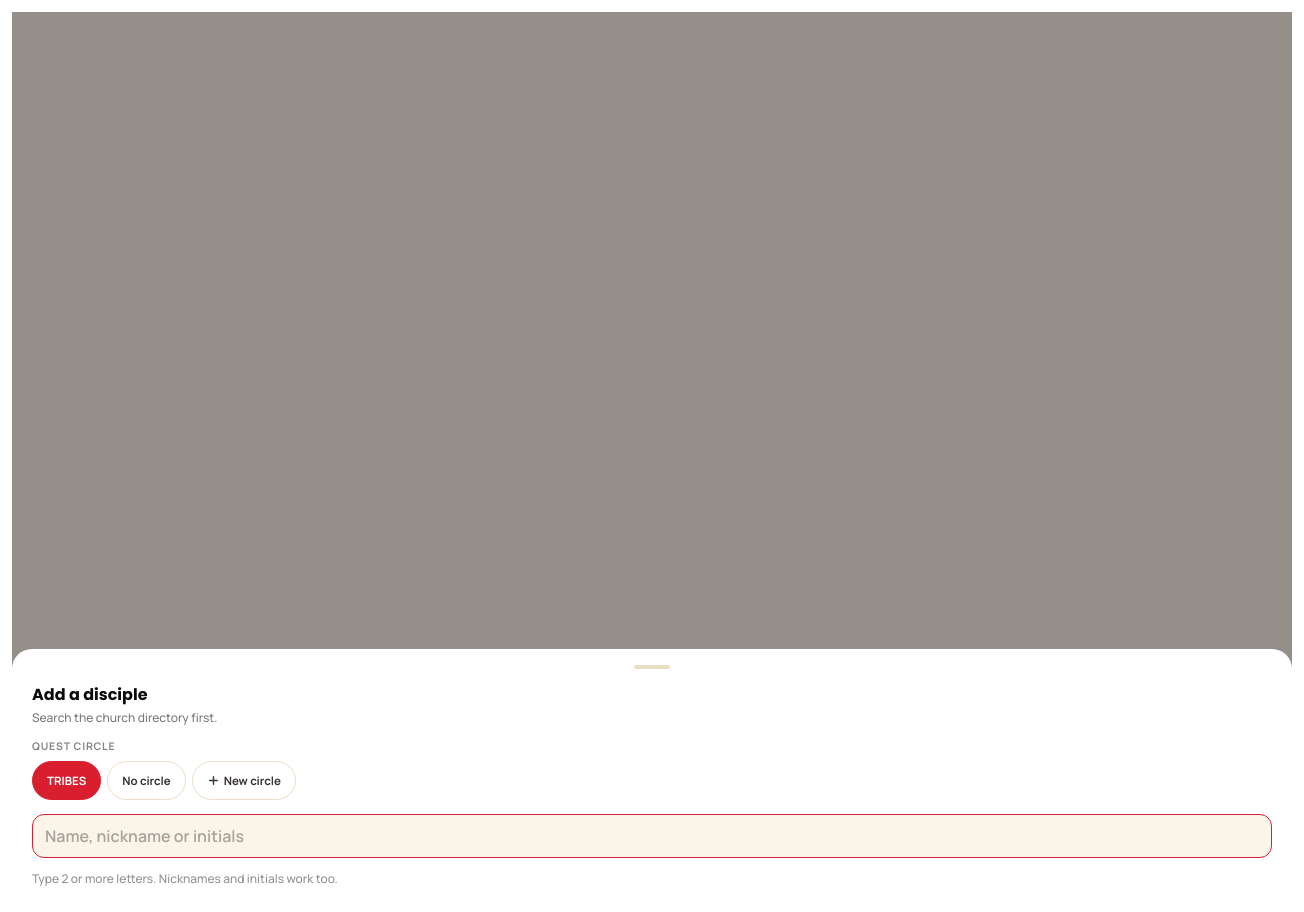
Test case: add sheet Quest Circle field (demo) › holds every Add while a circle name is typed but not started
This screenshot has width=1304, height=912.
Type "Juan Carlos Mendoza" into the field named "Search the church directory" at (652, 836), box [32,814,1272,858]
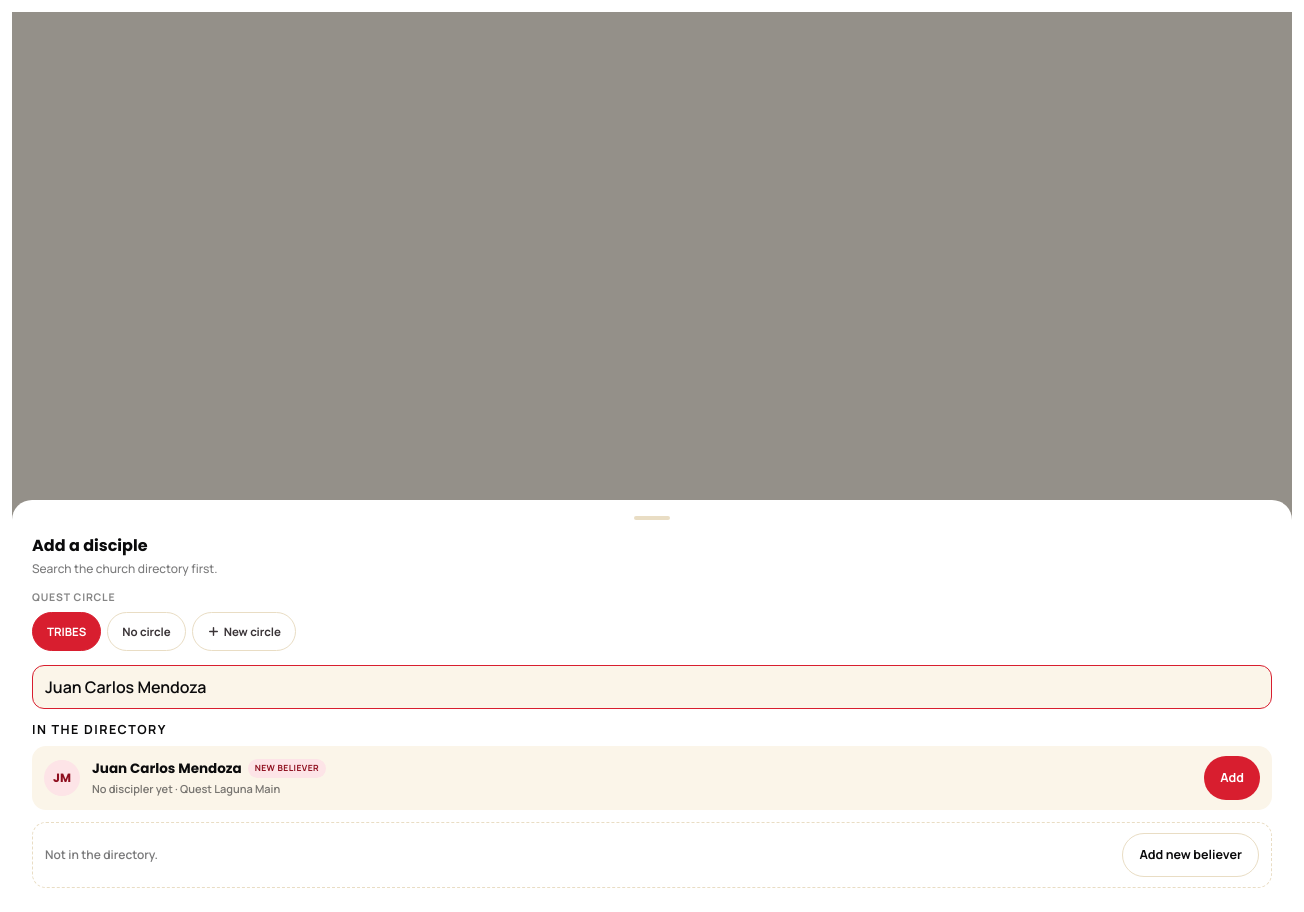
Click the button "New circle" at (244, 631), box [192,612,296,651]
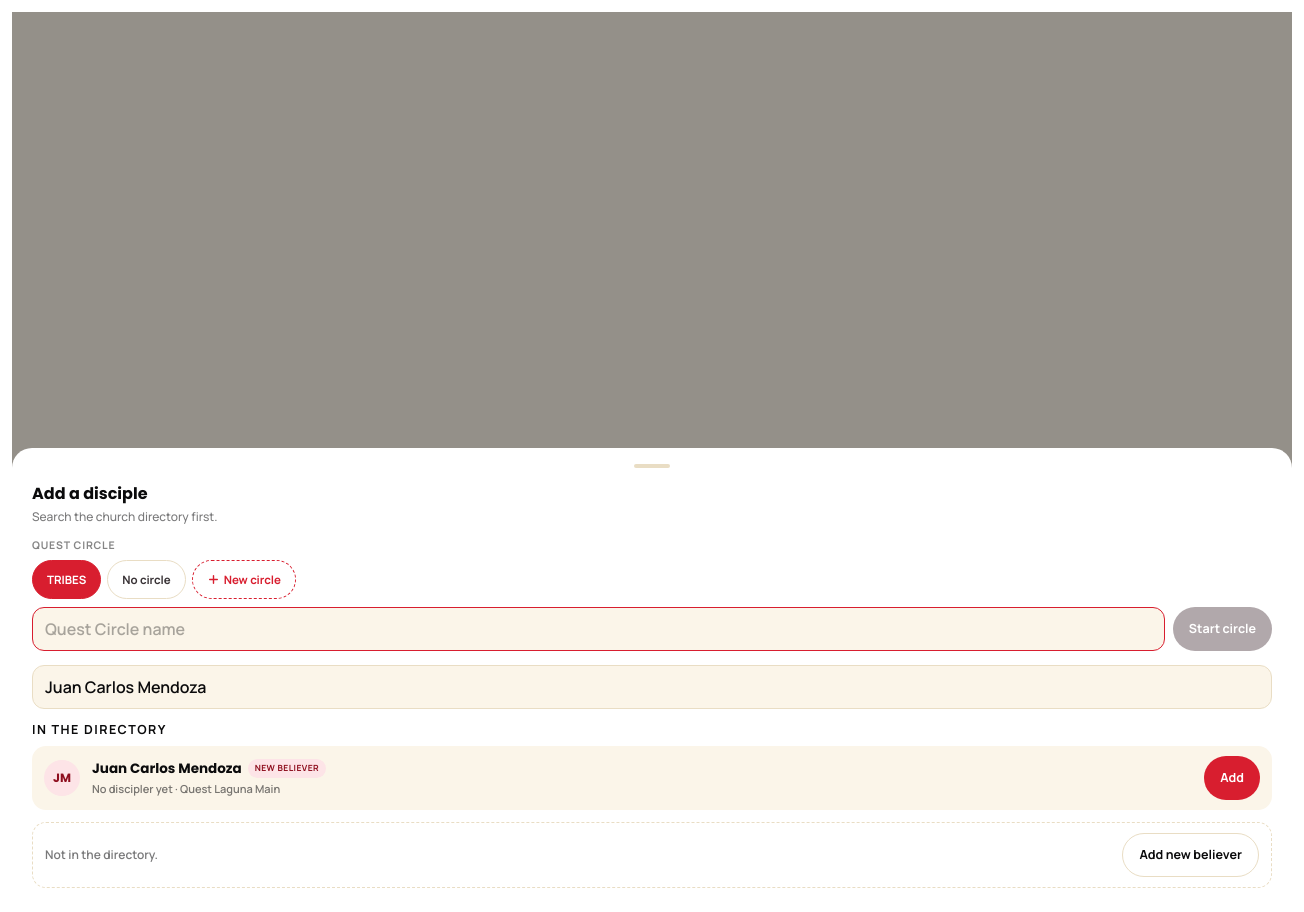
Type "Test Circle" into the field named "New Quest Circle name" at (598, 629), box [32,607,1165,651]
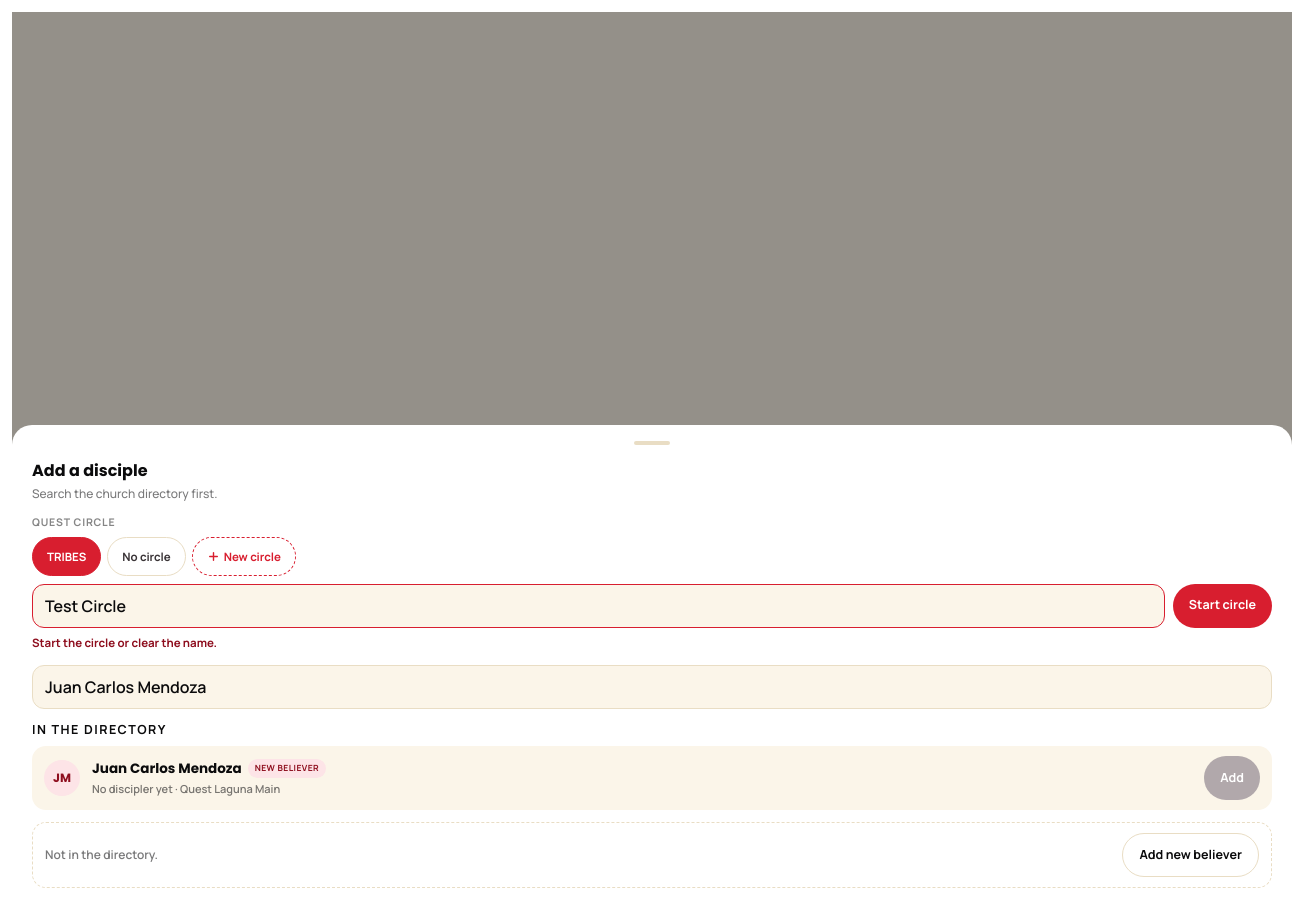
Result: the button "Add" is disabled at [1204,756,1260,800]
Clear the field named "New Quest Circle name" at (598, 606), box [32,584,1165,628]
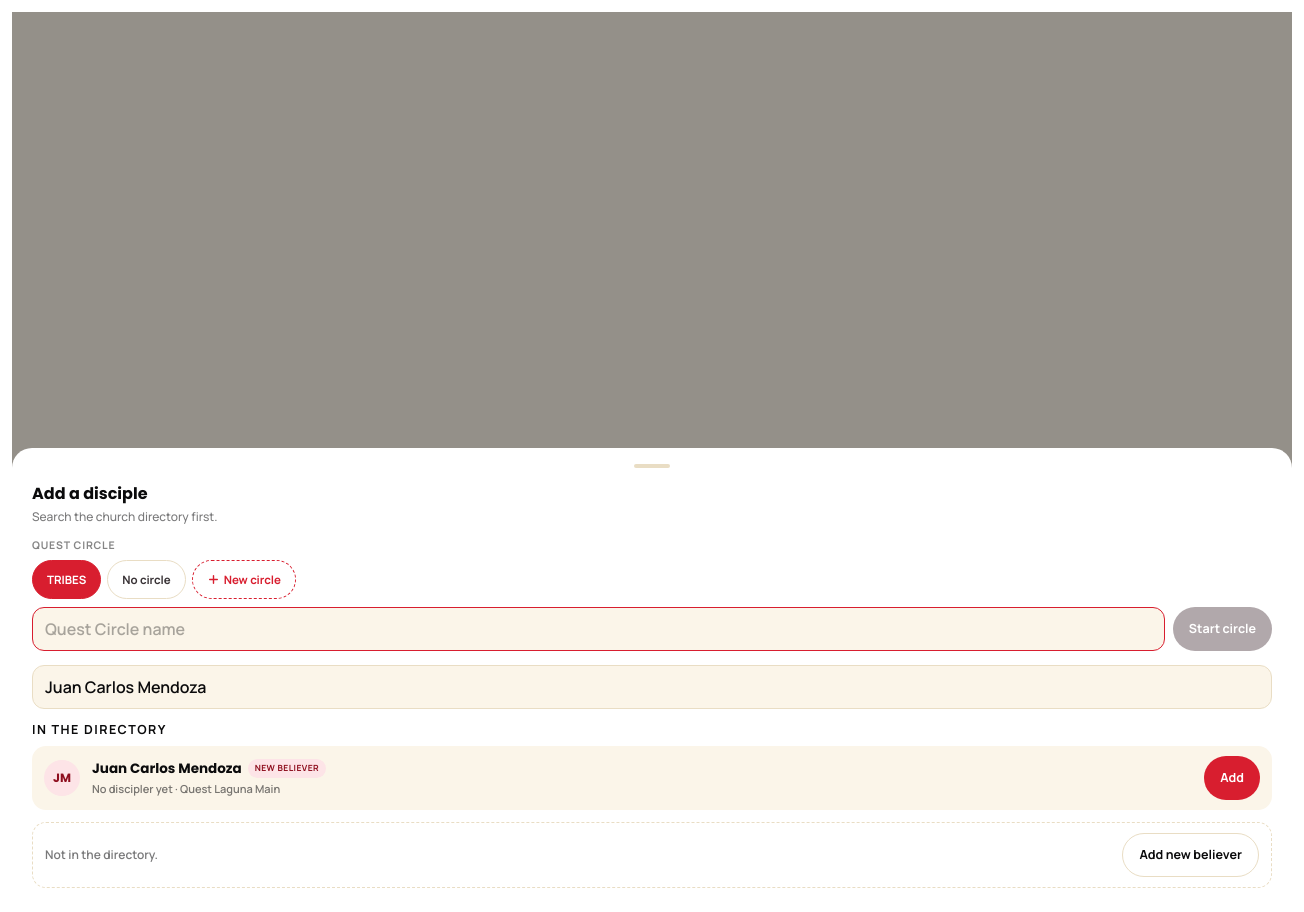
Result: the text "Start the circle or clear the name." is gone
Result: the button "Add" is enabled at [1204,756,1260,800]
